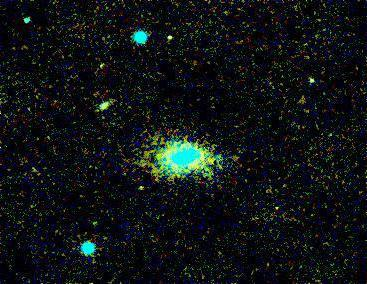star: (128, 168, 158, 198)
